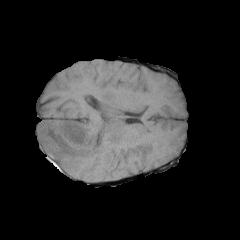glioma: (38, 119, 145, 169)
